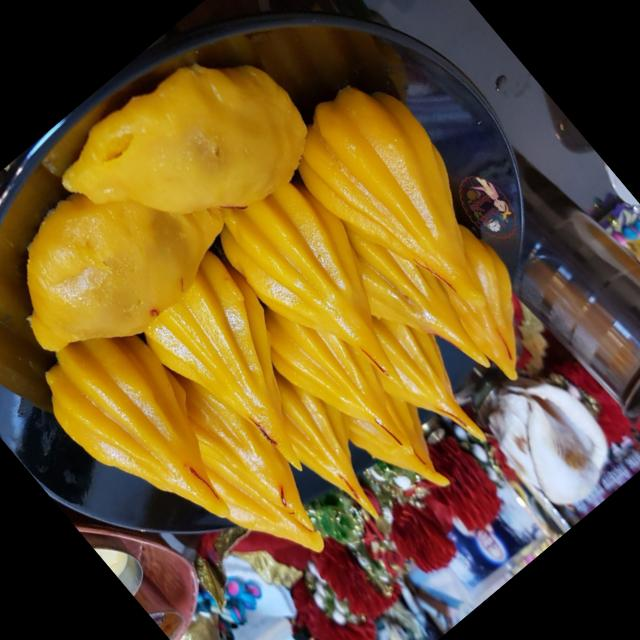modak: (278, 58, 546, 344), (30, 318, 268, 574), (207, 165, 444, 420), (124, 246, 355, 491)
